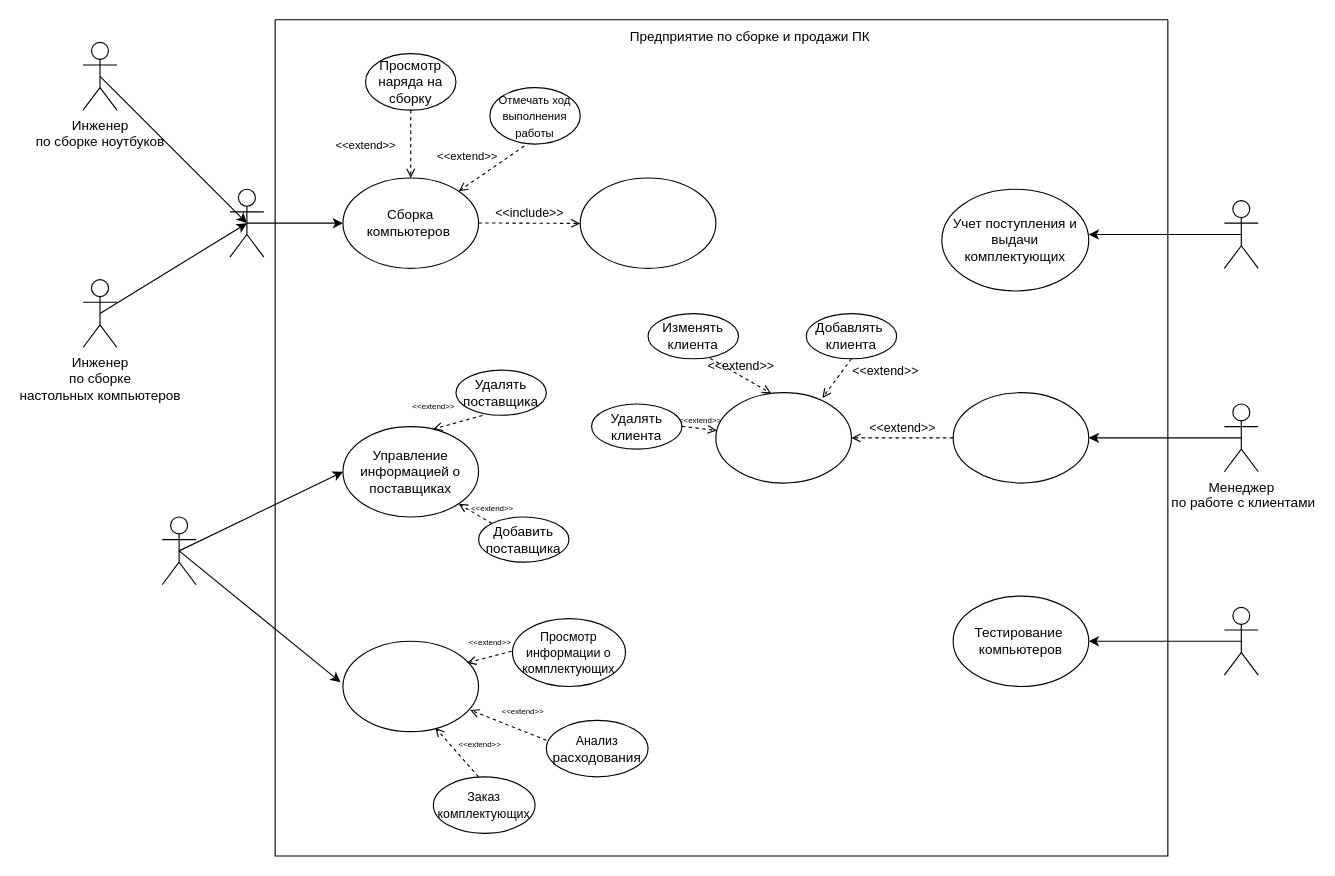
Image size: 1335x876. Some labels were removed from this diagram. The centre of each missing label's shape, as x and y in pixels:
"Завскладом" goes at pixel 1240 233.
"Инженер по тестированию" goes at pixel 1240 640.
"Менеджер по сборке" goes at pixel 246 222.
"Менеджер по снабжению" goes at pixel 178 550.
"Работа с заказом" goes at pixel 1020 437.
"Требование необходимых комплектующих" goes at pixel 647 222.
"Управление информацией о клиенте" goes at pixel 783 437.
"Управление информацией о комплектующих" goes at pixel 410 686.
